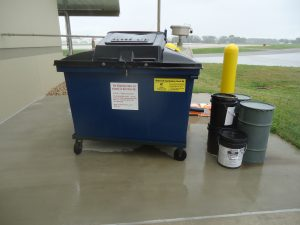Dumpster: (54, 29, 204, 170)
